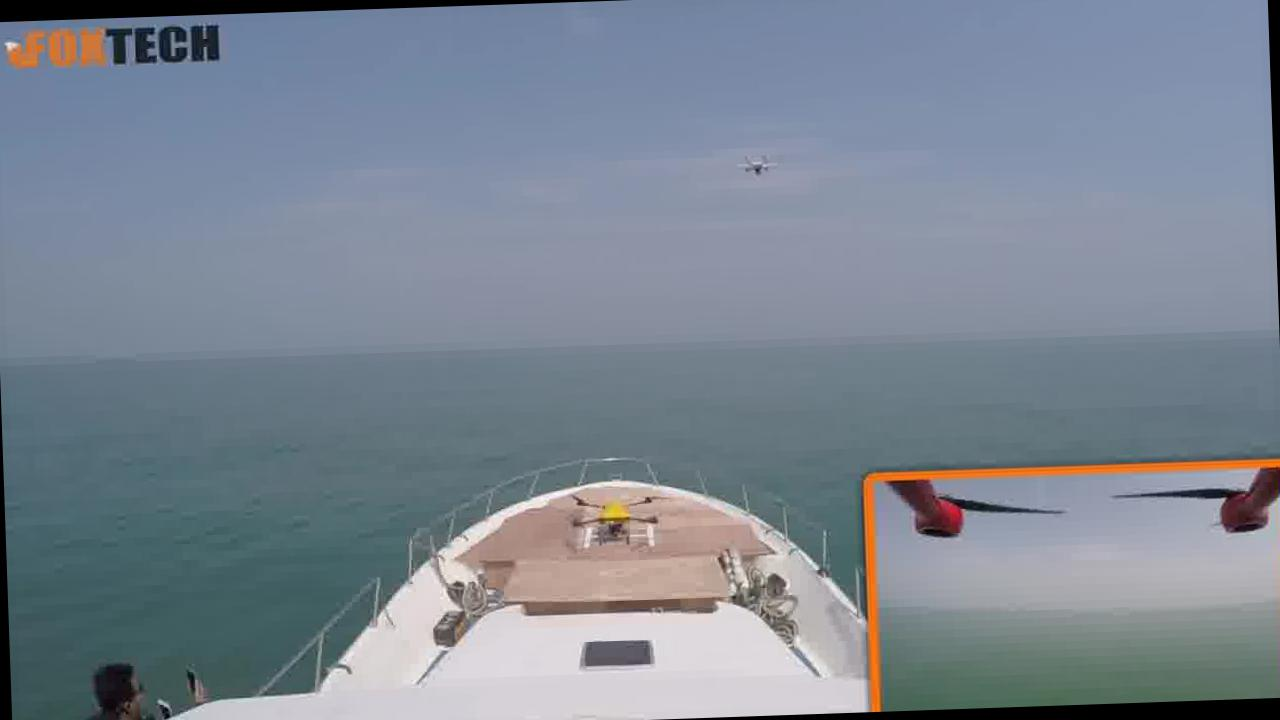drone: (563, 476, 672, 561), (720, 135, 790, 185)
